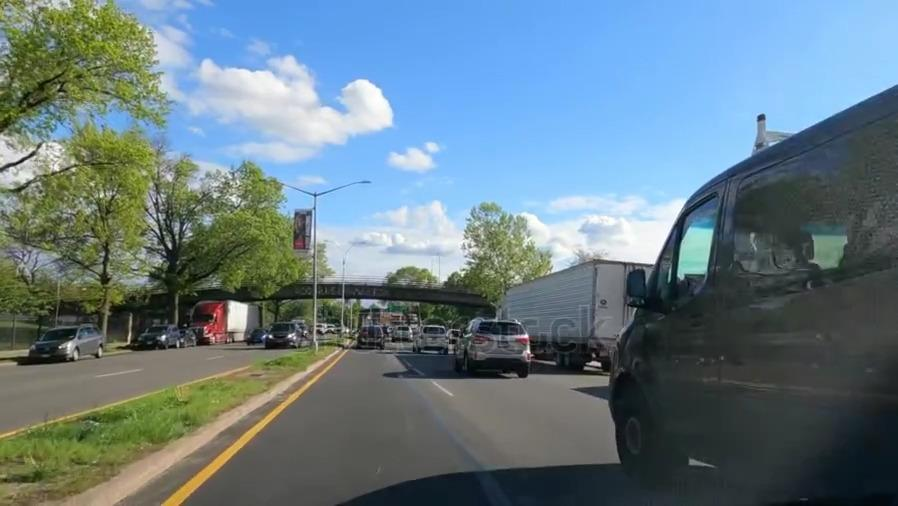car: (455, 318, 536, 375), (24, 320, 109, 368), (413, 324, 451, 355), (137, 322, 175, 347), (265, 321, 299, 347), (353, 326, 388, 349), (179, 326, 199, 346)
truck: (508, 258, 644, 357), (187, 299, 266, 347)
van: (651, 96, 897, 498)
wheel: (610, 383, 664, 479)
